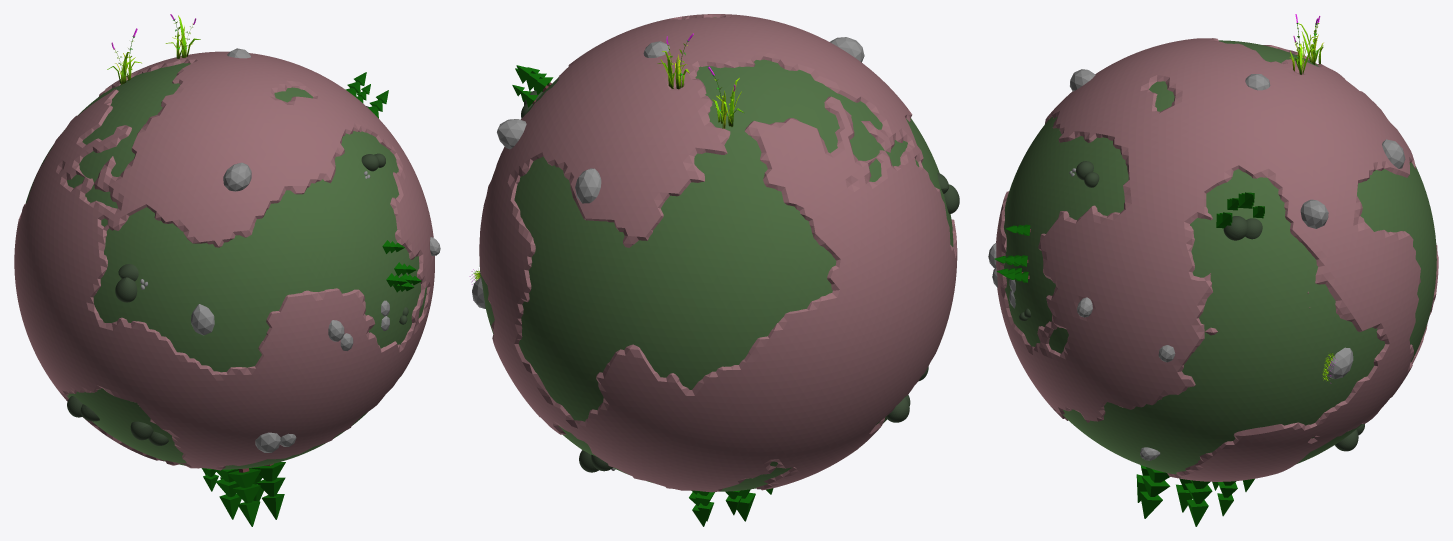
File: new-forest-planet (3).fbx
The picture shows the model from 3 angles, left to right: view 1: azimuth 30°, elevation 25°; view 2: azimuth 150°, elevation 25°; view 3: azimuth 270°, elevation 25°; orthographic projection. The views are drawn at different scales.
Parts seen in each view (by area): view 1: Planet, Pine-Tree-005, Pine-Tree-005.002, Pine-Tree-005.003, Rock.001, Rock.008; view 2: Planet, Rock.009, Rock.010; view 3: Planet, Pine-Tree-005.002, Pine-Tree-005.001, Rock.010, Rock.002.
Part boxes in pixels (bbox=[...]): Planet: bbox=[14, 51, 434, 470]; Pine-Tree-005: bbox=[227, 468, 260, 526]; Pine-Tree-005.002: bbox=[252, 462, 285, 519]; Pine-Tree-005.003: bbox=[215, 469, 241, 519]; Rock.001: bbox=[223, 162, 251, 191]; Rock.008: bbox=[191, 304, 214, 335]; Planet: bbox=[479, 14, 957, 492]; Rock.009: bbox=[575, 168, 601, 203]; Rock.010: bbox=[497, 119, 526, 149]; Planet: bbox=[996, 38, 1438, 481]; Pine-Tree-005.002: bbox=[1140, 467, 1170, 518]; Pine-Tree-005.001: bbox=[1185, 480, 1212, 526]; Rock.010: bbox=[1300, 199, 1328, 228]; Rock.002: bbox=[1327, 347, 1353, 379].
Bounding box in the file's own units: 303 × 373 × 308.
